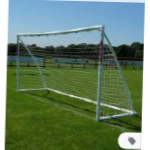goals: (16, 23, 135, 120)
